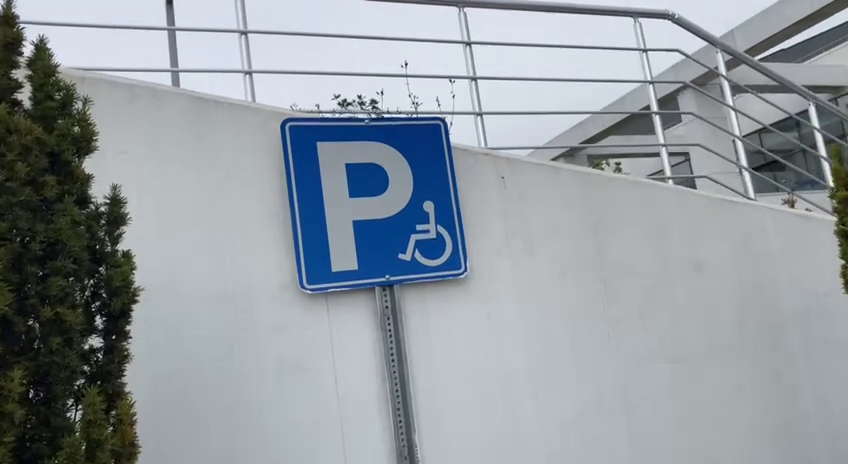parking: (278, 114, 472, 294)
